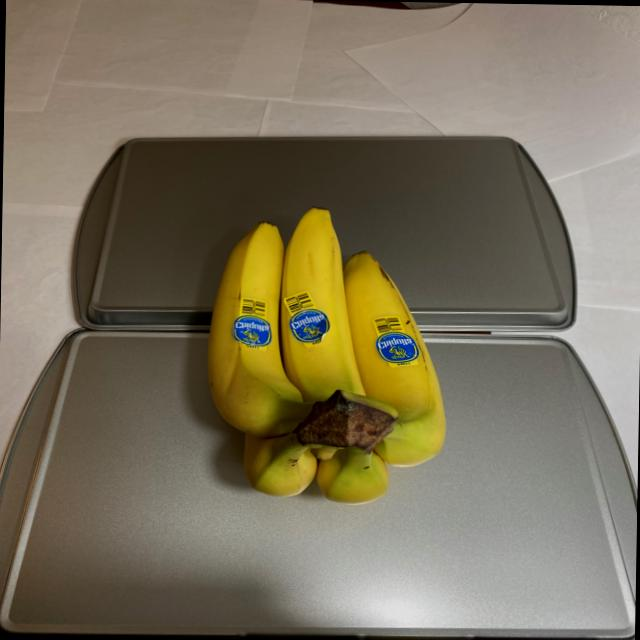banana: (207, 198, 452, 506)
